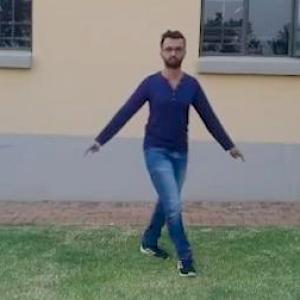land: (96, 40, 242, 241)
